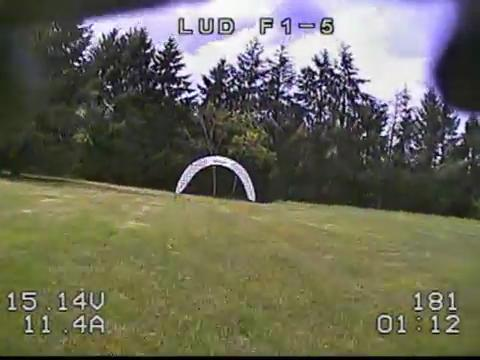gate: (176, 155, 256, 202)
